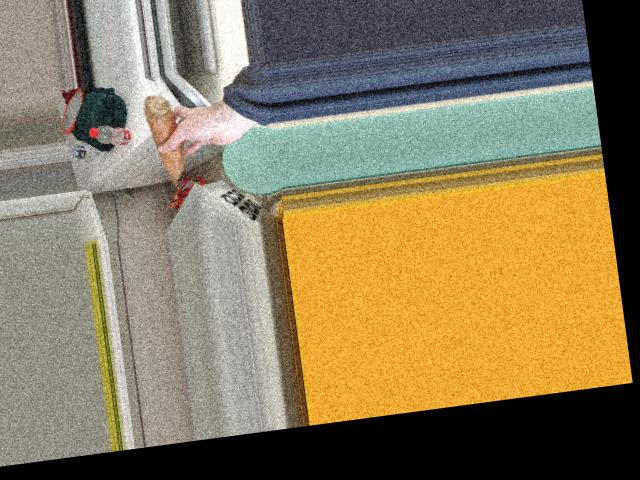sweet_potato: (149, 92, 185, 185)
